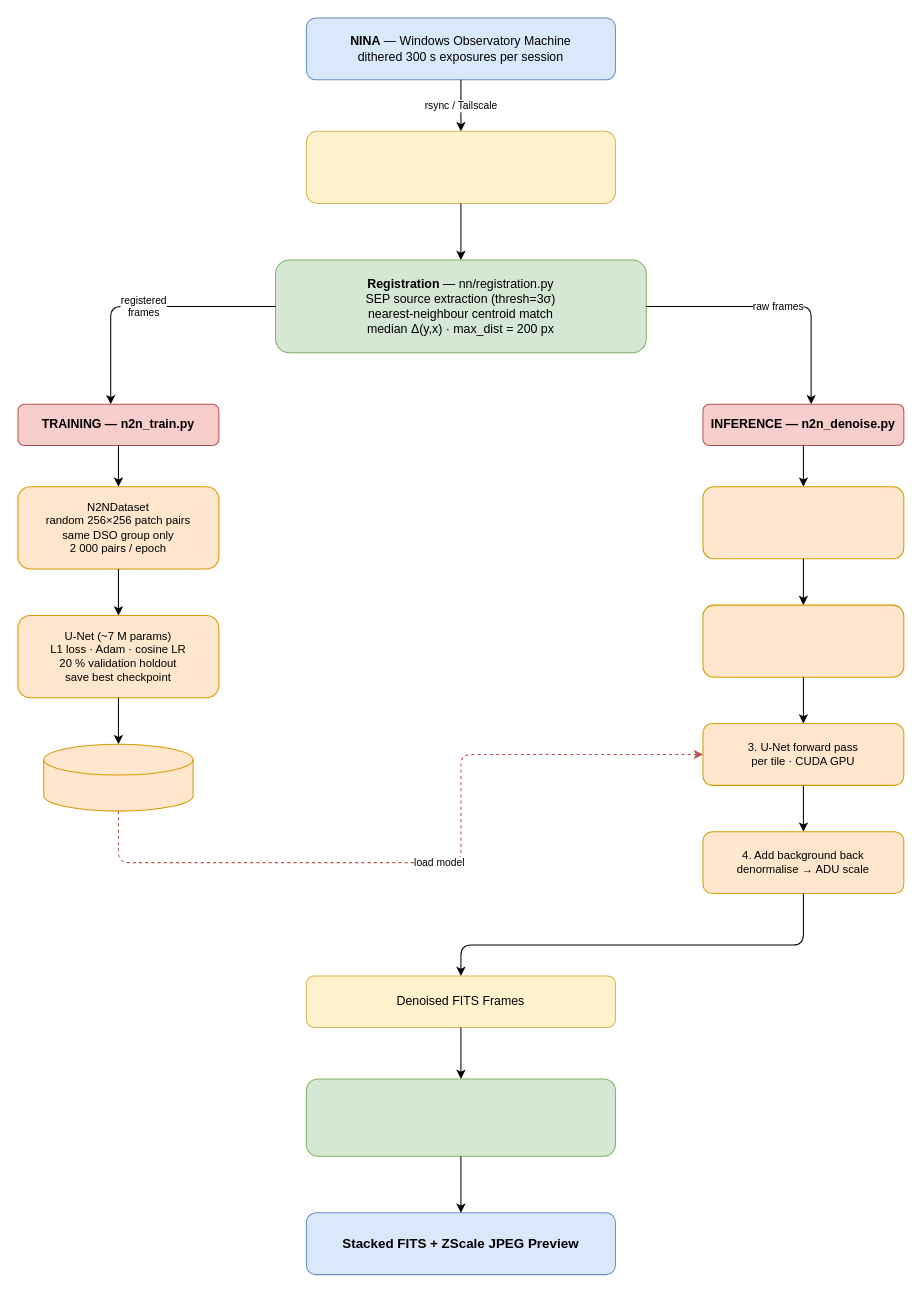
Some shapes in this 922 by 1293 pixel diagram are drawn without their labels. Each missing label, with the centre of its shape:
1. Background subtract sep.Background mesh estimate removes vignetting gradient: the point at 803,522
2. Tile 512×512, overlap 64 px Tukey window blend 50/50 weight at seam midpoint: the point at 803,640
n2n_L_300s.pt (best val loss): the point at 118,777
Raw FITS Frames per-session subdirectories L filter · 300 s · uncalibrated: the point at 460,166
Stacker — stacking/stacker.py astroalign registration sigma-clip combine: the point at 460,1117
